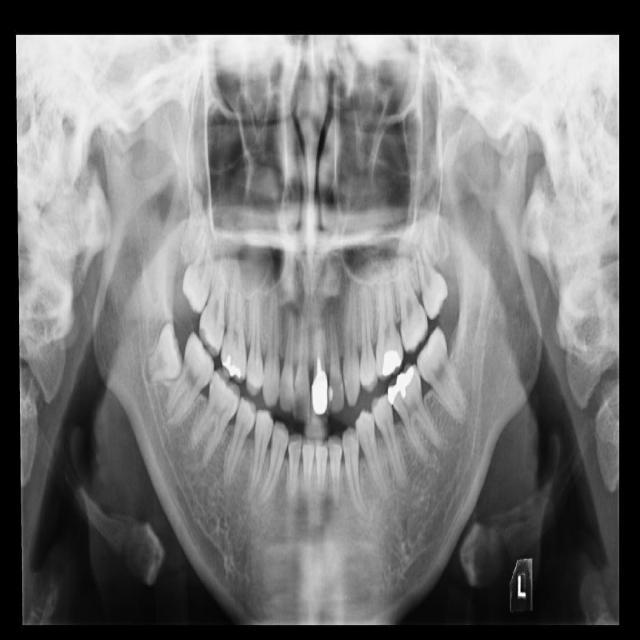3M ESPE Implant: (181, 225, 211, 314)
52: (388, 362, 421, 414), (375, 326, 405, 382), (220, 325, 247, 383), (341, 351, 363, 407), (311, 368, 331, 426), (328, 367, 345, 414)
73: (590, 588, 599, 592)
BioHorizons Implant: (395, 253, 431, 355)
BioLife Implant: (413, 237, 452, 322)
Blue Sky Bio Implant: (407, 324, 470, 429)
Caries: (197, 226, 230, 358)
Implant: (161, 330, 224, 433)
Keystone Dental Implant: (141, 322, 185, 384)
